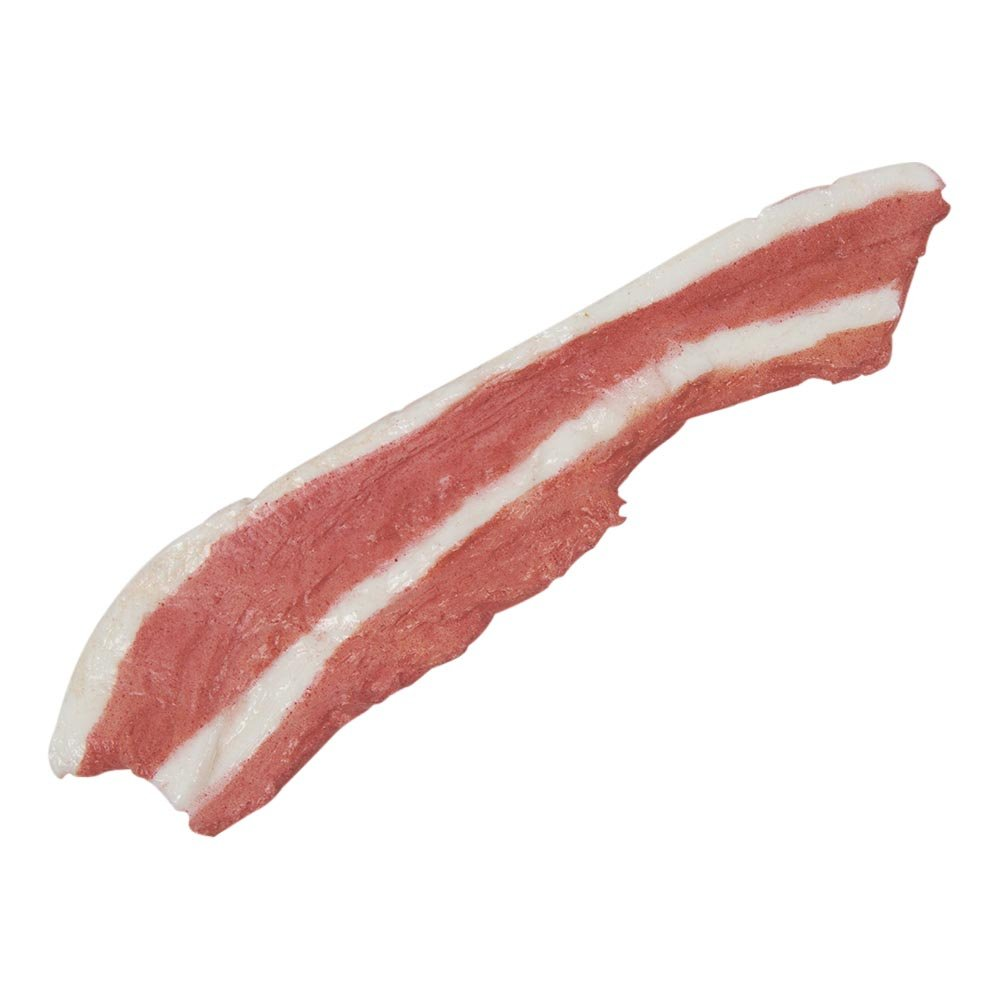bacon: (50, 134, 963, 835)
